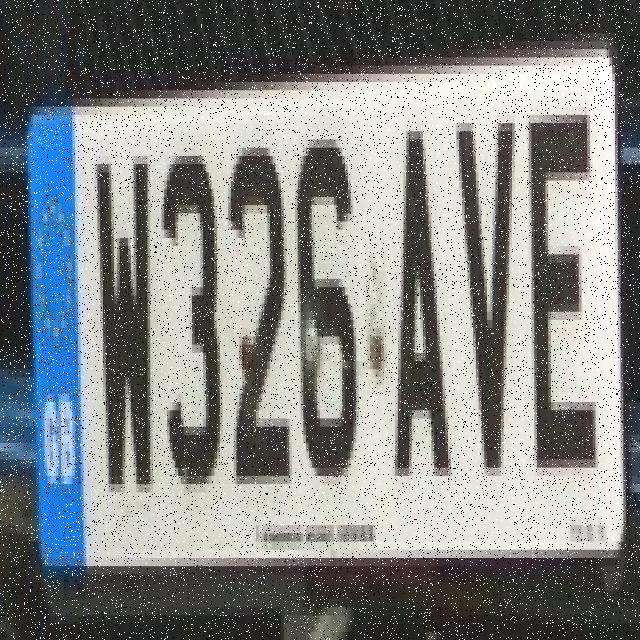licenseplate: (20, 68, 622, 566)
